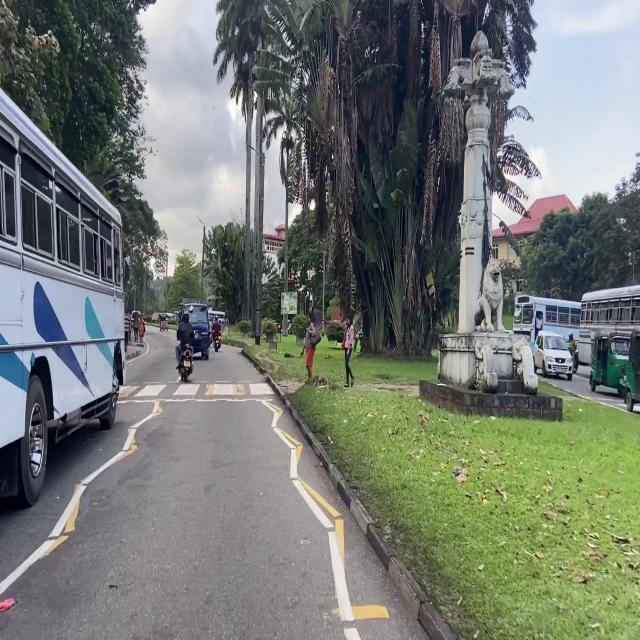bus: (0, 89, 125, 505), (579, 284, 640, 364), (513, 295, 581, 348)
car: (533, 331, 573, 380)
motorcycle: (179, 344, 193, 382), (213, 335, 221, 352), (574, 351, 579, 373)
person: (301, 316, 321, 382), (176, 313, 194, 368), (342, 314, 355, 388), (535, 313, 543, 340), (568, 334, 577, 355), (139, 313, 145, 344), (133, 313, 139, 343), (212, 316, 220, 337), (224, 315, 229, 338), (125, 327, 130, 350), (125, 313, 130, 323)
three wheeler: (590, 331, 631, 411), (624, 329, 640, 411), (159, 313, 168, 331)
van: (180, 302, 210, 359), (130, 311, 140, 331)
